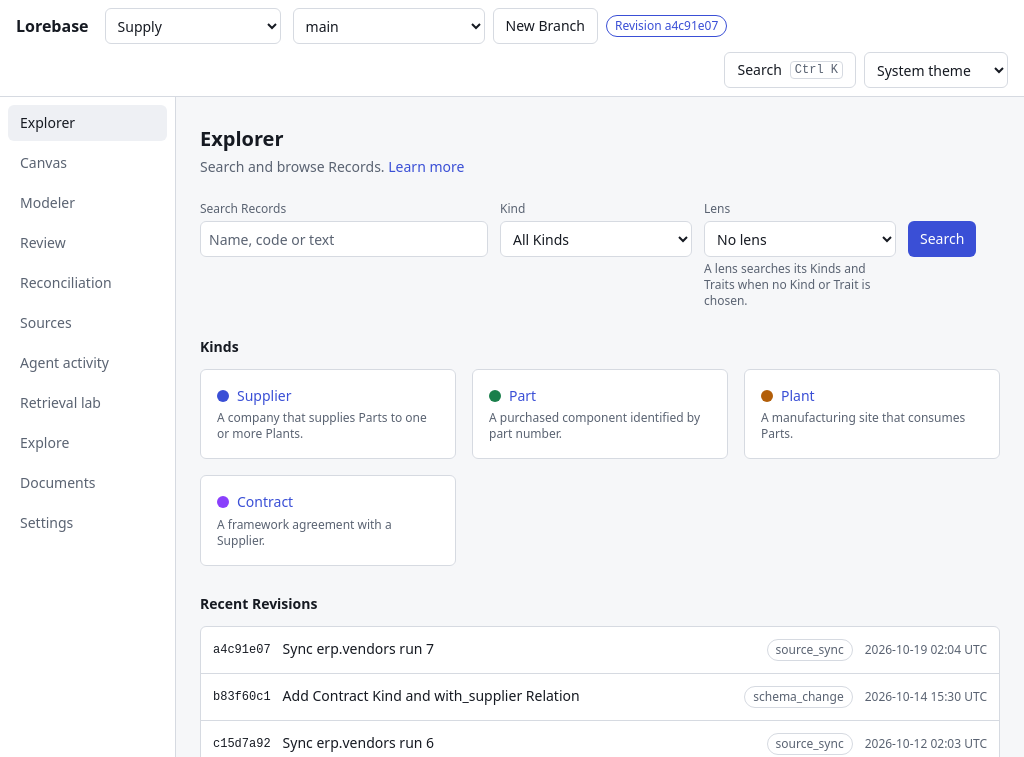
Test case: router smoke › opens Agent activity and the Retrieval lab from the left navigation
Click the link "Agent activity". click: click(64, 362)
box: top-left (20, 353), bottom-right (109, 372)
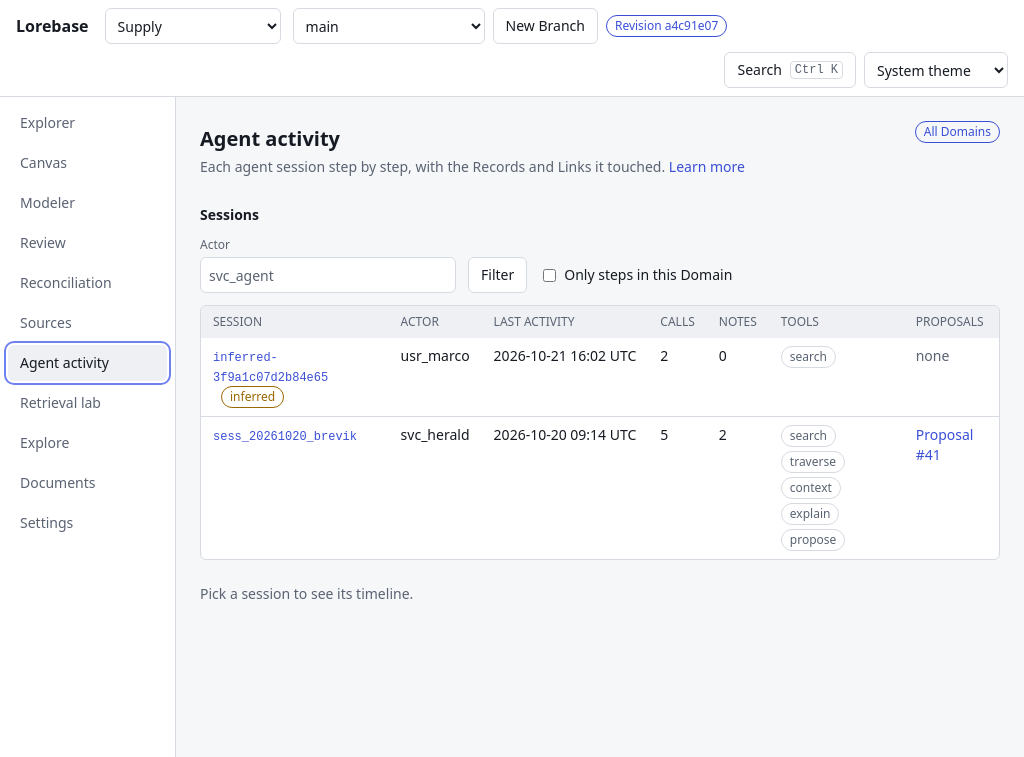
Result: the heading "Agent activity" is shown at top-left (200, 125), bottom-right (340, 152)
Click the link "Retrieval lab". click: click(60, 402)
box: top-left (20, 393), bottom-right (101, 412)
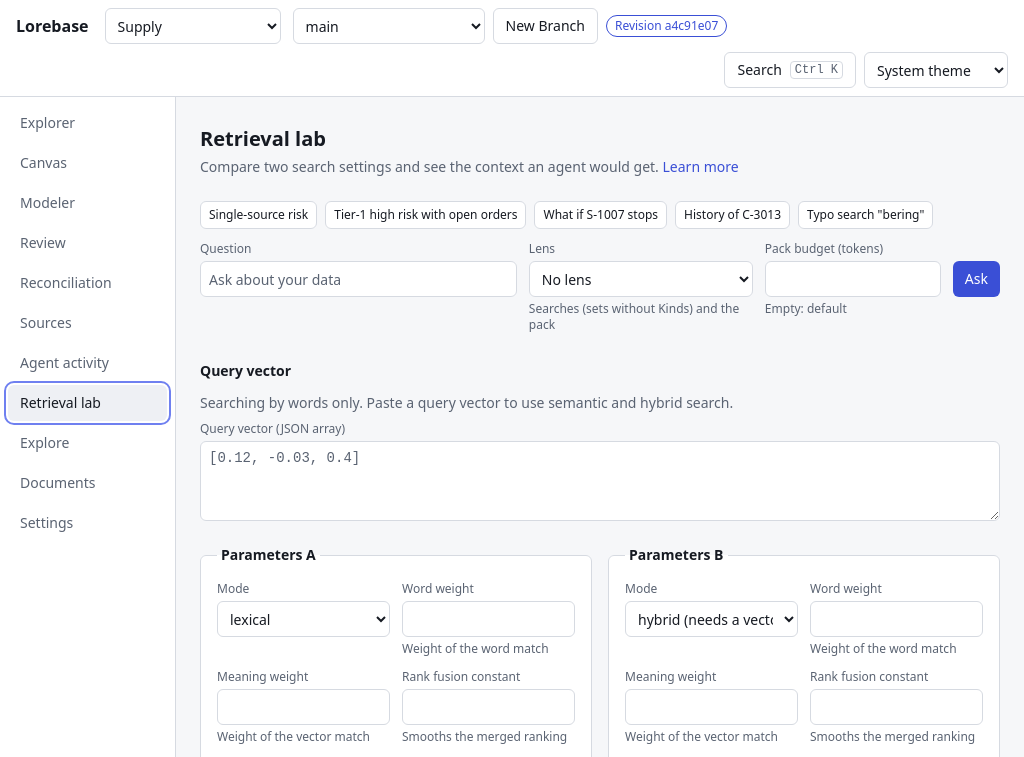
Result: the heading "Retrieval lab" is shown at top-left (200, 125), bottom-right (326, 152)
